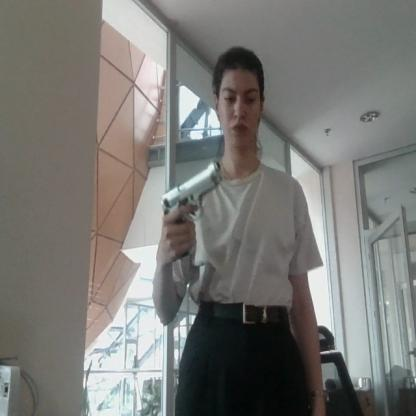handgun: (152, 159, 228, 302)
